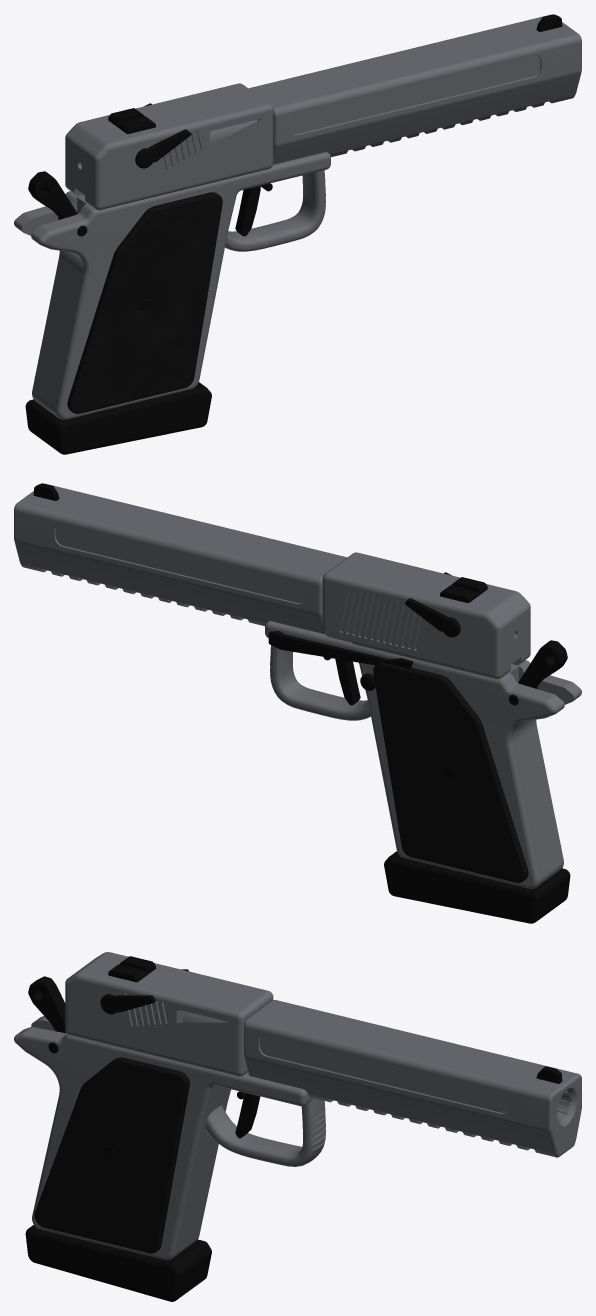
File: deagle.obj
The picture shows the model from 3 angles, top to bottom: view 1: azimuth 30°, elevation 25°; view 2: azimuth 150°, elevation 25°; view 3: azimuth 330°, elevation 25°; orthographic projection.
Visible parts, largest first — view 1: cano, empunhadura, ferrolho, armacao, pente, guarda_mato, cao, gatilho; view 2: cano, empunhadura, ferrolho, armacao, pente, guarda_mato, trava_ferrolho, cao, gatilho; view 3: cano, empunhadura, ferrolho, armacao, pente, guarda_mato, cao, gatilho.
Part boxes in pixels (bbox=[...]): cano: bbox=[248, 14, 581, 164]; empunhadura: bbox=[34, 192, 222, 413]; ferrolho: bbox=[65, 83, 273, 210]; armacao: bbox=[14, 152, 330, 419]; pente: bbox=[25, 382, 211, 454]; guarda_mato: bbox=[225, 170, 325, 251]; cao: bbox=[28, 171, 77, 219]; gatilho: bbox=[235, 186, 260, 236]; cano: bbox=[14, 483, 347, 633]; empunhadura: bbox=[373, 662, 561, 882]; ferrolho: bbox=[322, 552, 530, 679]; armacao: bbox=[265, 621, 581, 888]; pente: bbox=[384, 851, 570, 923]; guarda_mato: bbox=[270, 645, 370, 720]; trava_ferrolho: bbox=[268, 631, 413, 668]; cao: bbox=[518, 640, 567, 688]; gatilho: bbox=[335, 659, 360, 705]; cano: bbox=[244, 1000, 581, 1157]; empunhadura: bbox=[34, 1057, 189, 1253]; ferrolho: bbox=[65, 952, 273, 1076]; armacao: bbox=[14, 1016, 312, 1259]; pente: bbox=[25, 1225, 211, 1301]; guarda_mato: bbox=[205, 1098, 325, 1166]; cao: bbox=[28, 976, 66, 1033]; gatilho: bbox=[235, 1094, 260, 1138].
Size of the model in its own units: 272 by 150 by 33.2.
7 materials, 1 textured.
